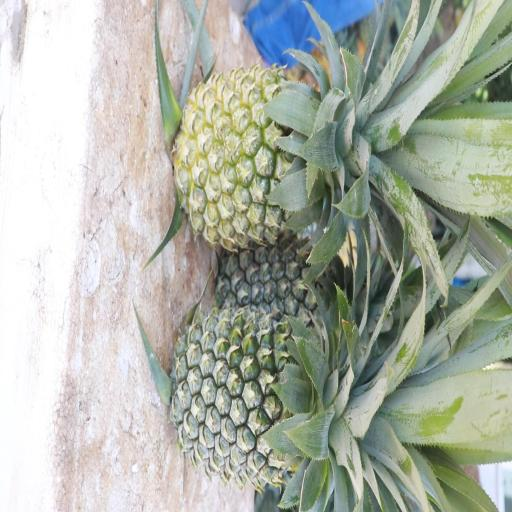Pineapple - v8 v1: (180, 62, 366, 242)
